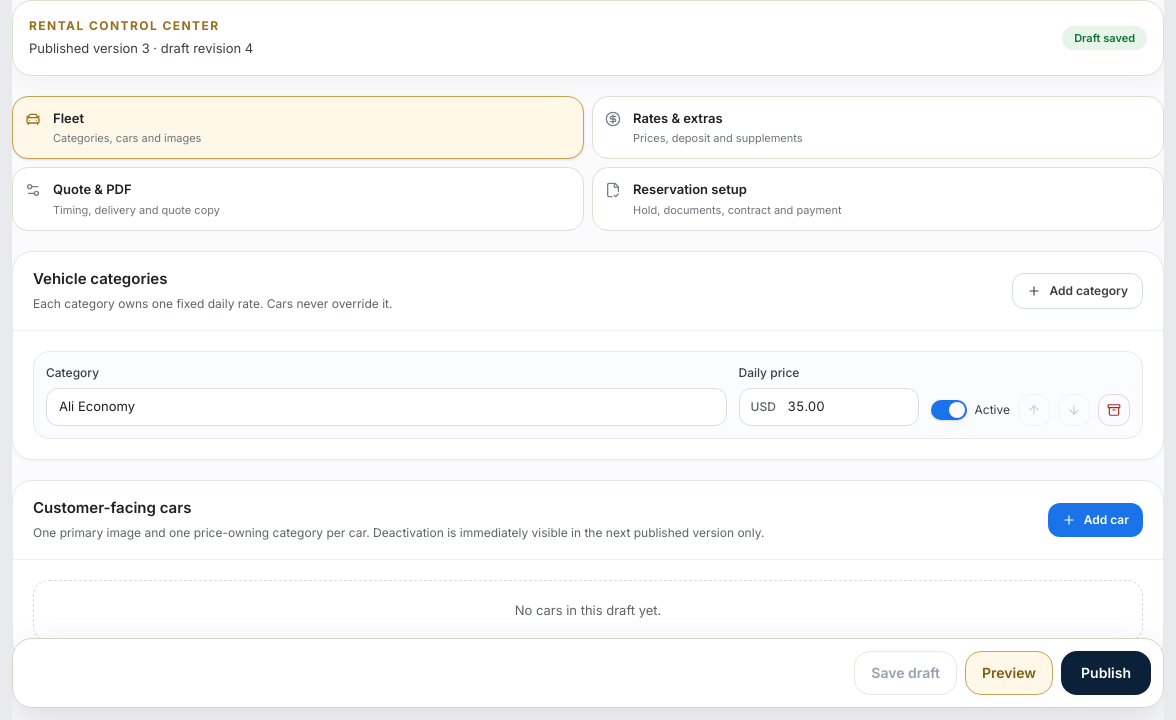
Test: RentalControlCenter › keeps the selected rental section in the URL for exact Back restoration
Click the button "Rates & extras Prices, deposit and supplements" at {"x": 678, "y": 118}, box [592, 96, 1164, 159]
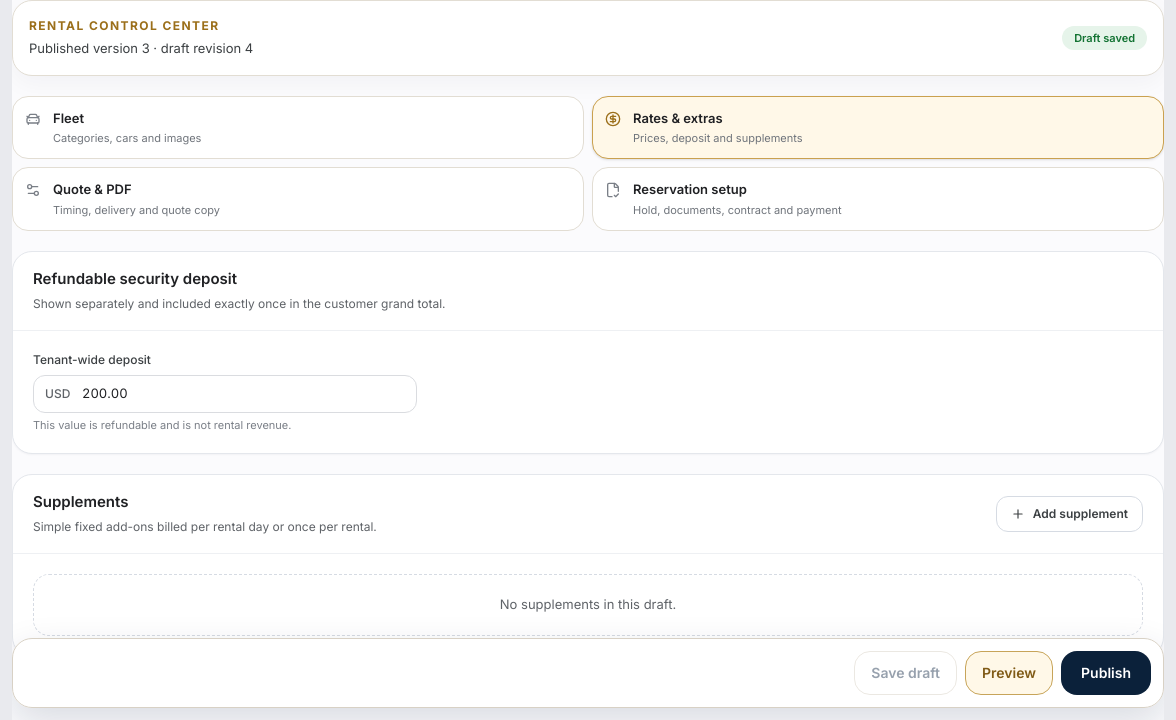
Expected: the heading "Supplements" is shown, [33, 492, 128, 510]
